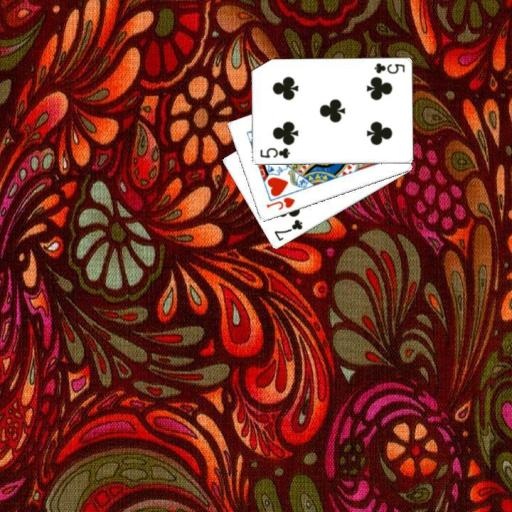5C: (371, 60, 406, 75), (257, 145, 291, 160)
7C: (271, 216, 304, 243)
JH: (263, 194, 297, 212)
